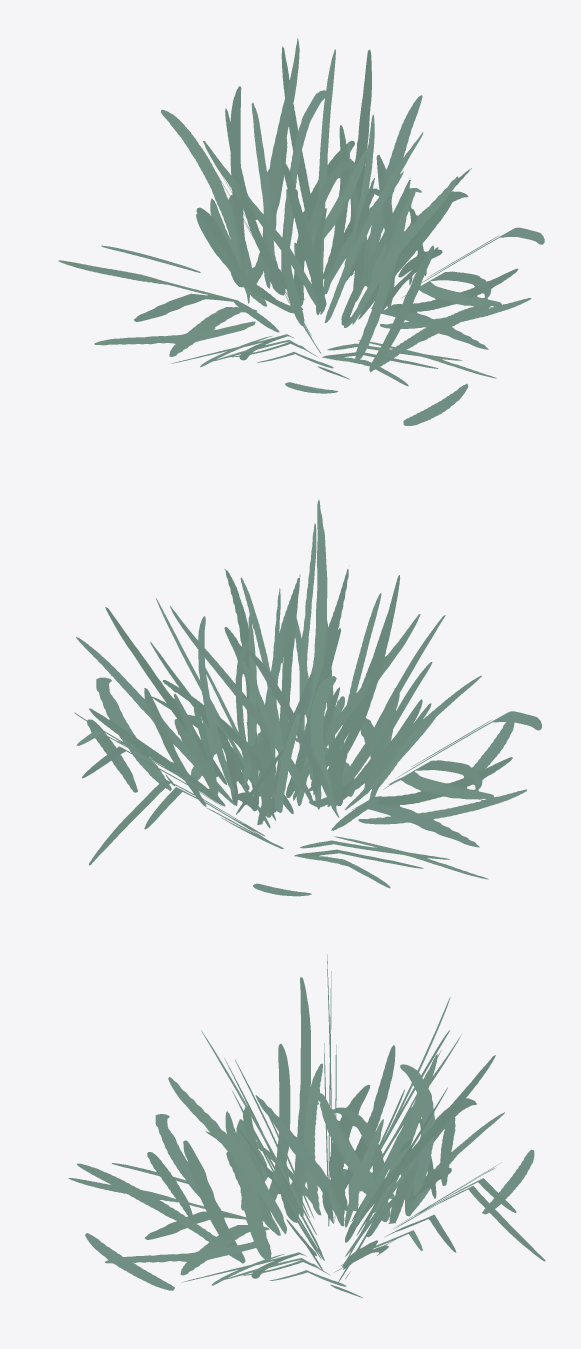
File: fairy_finegrass_fae_2.glb
The picture shows the model from 3 angles, top to bottom: view 1: azimuth 30°, elevation 25°; view 2: azimuth 150°, elevation 25°; view 3: azimuth 270°, elevation 25°; orthographic projection. The views are drawn at different scales.
Visible parts, largest first — view 1: fairy_finegrass_fae_2; view 2: fairy_finegrass_fae_2; view 3: fairy_finegrass_fae_2.
Part boxes in pixels (box(x1,y1,x2,y2)): fairy_finegrass_fae_2: box(58, 38, 544, 425); fairy_finegrass_fae_2: box(74, 500, 541, 896); fairy_finegrass_fae_2: box(68, 954, 545, 1297).
Size of the model in its own units: 0.5332 by 0.3621 by 0.5533.
1 material, 1 textured.
